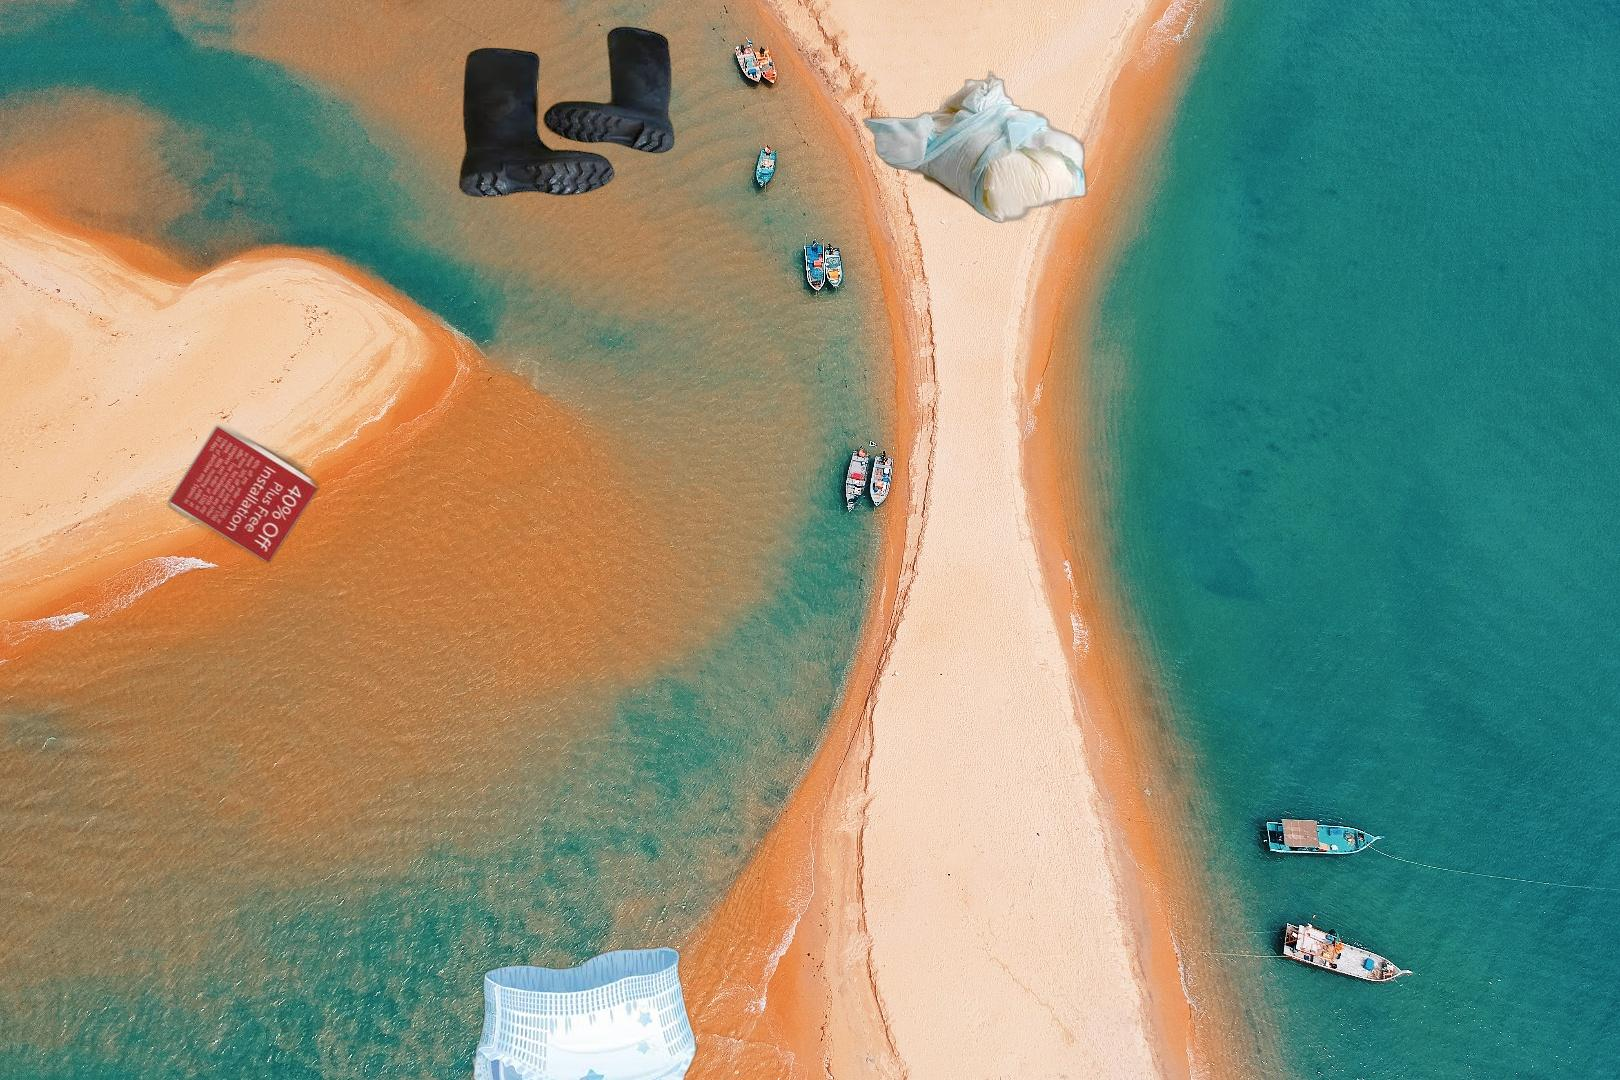paper: (53, 319, 344, 567)
shoes: (456, 24, 677, 200)
trash: (859, 70, 1092, 225), (471, 947, 699, 1080)
